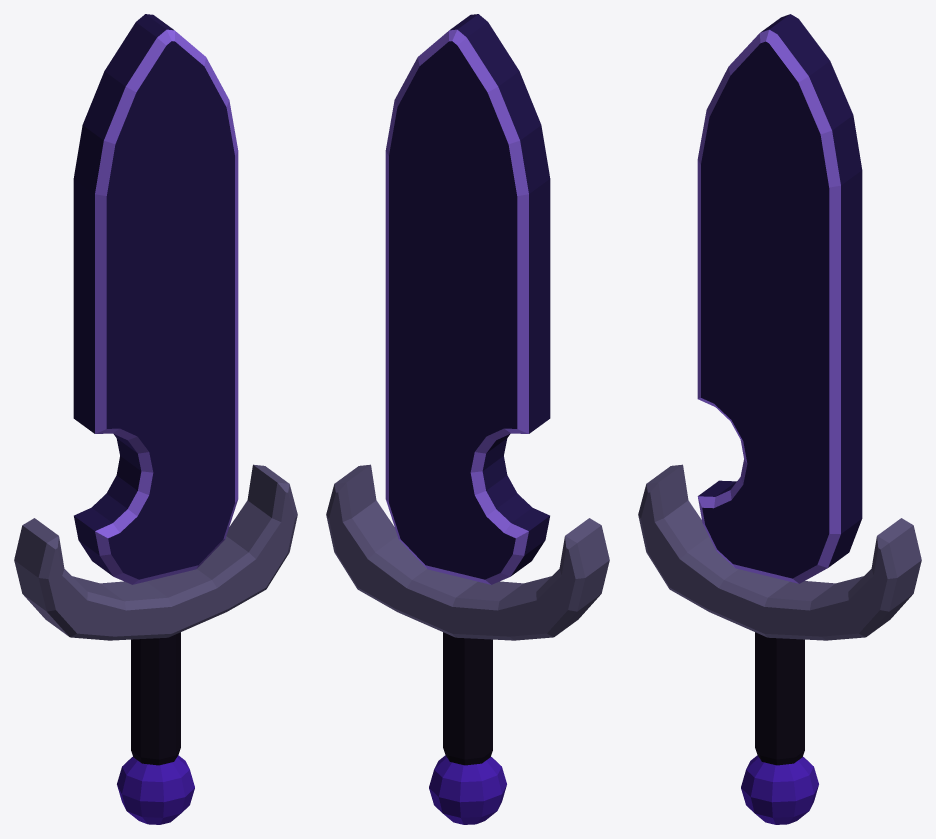
Rendered from BE_PowerMesh_HeldShadowSword.fbx.
The picture shows the model from 3 angles, left to right: view 1: azimuth 30°, elevation 25°; view 2: azimuth 150°, elevation 25°; view 3: azimuth 330°, elevation 25°; orthographic projection.
Visible parts, largest first — view 1: BE_PowerMesh_HeldShadowSword; view 2: BE_PowerMesh_HeldShadowSword; view 3: BE_PowerMesh_HeldShadowSword.
Boxes of the visible parts, bbox=[...] form: BE_PowerMesh_HeldShadowSword: bbox=[14, 14, 297, 824]; BE_PowerMesh_HeldShadowSword: bbox=[326, 14, 609, 824]; BE_PowerMesh_HeldShadowSword: bbox=[638, 14, 921, 824].
Size of the model in its own units: 190 by 560 by 47.55.
1 material, 1 textured.
